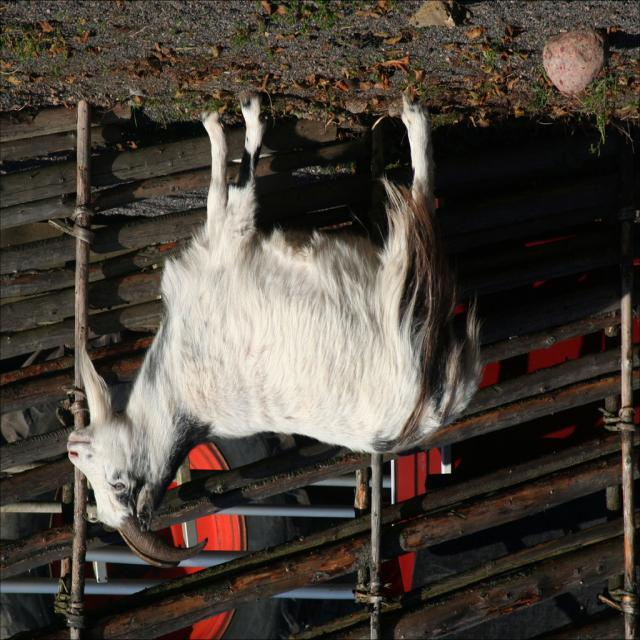Goat: (65, 89, 485, 570)
